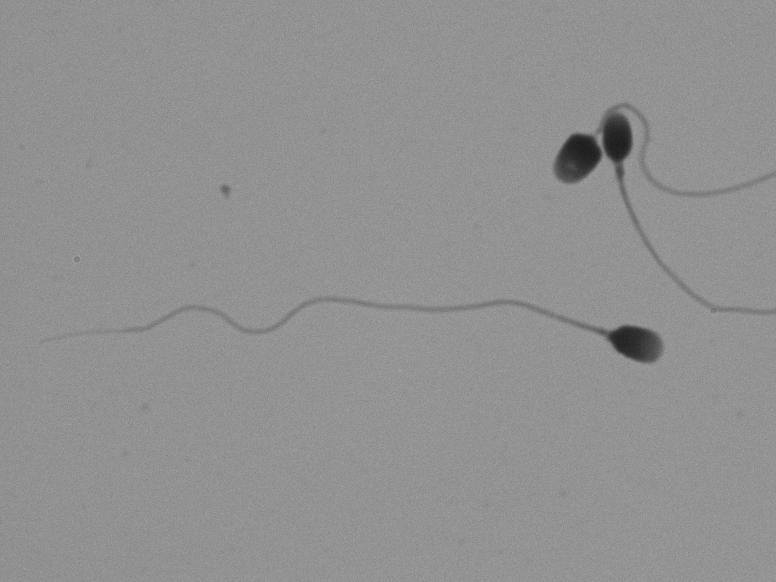Abnormal: (535, 119, 604, 242)
Normal: (27, 280, 679, 439), (602, 86, 714, 265)
